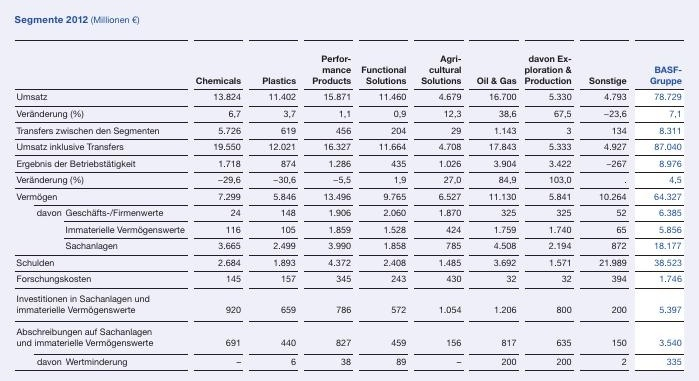table: (0, 0, 699, 381)
